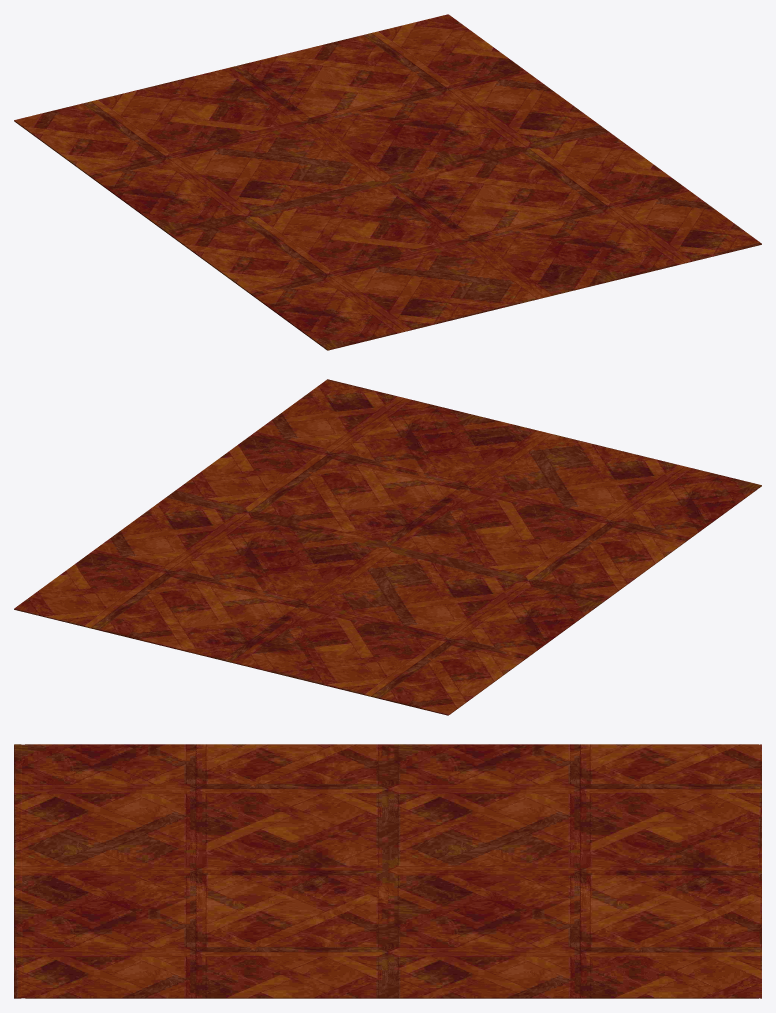
Rendered from Project Name.glb.
The picture shows the model from 3 angles, top to bottom: view 1: azimuth 30°, elevation 25°; view 2: azimuth 150°, elevation 25°; view 3: azimuth 270°, elevation 25°; orthographic projection. The views are drawn at different scales.
Parts seen in each view (by area): view 1: 51072_StrellaRug_Grey; view 2: 51072_StrellaRug_Grey; view 3: 51072_StrellaRug_Grey.
Boxes of the visible parts, x1,y1,x2,y2 form: 51072_StrellaRug_Grey: (14, 14, 761, 350); 51072_StrellaRug_Grey: (14, 379, 761, 715); 51072_StrellaRug_Grey: (14, 744, 761, 998).
Size of the model in its own units: 2.44 by 0.00716 by 3.05.
1 material, 1 textured.
